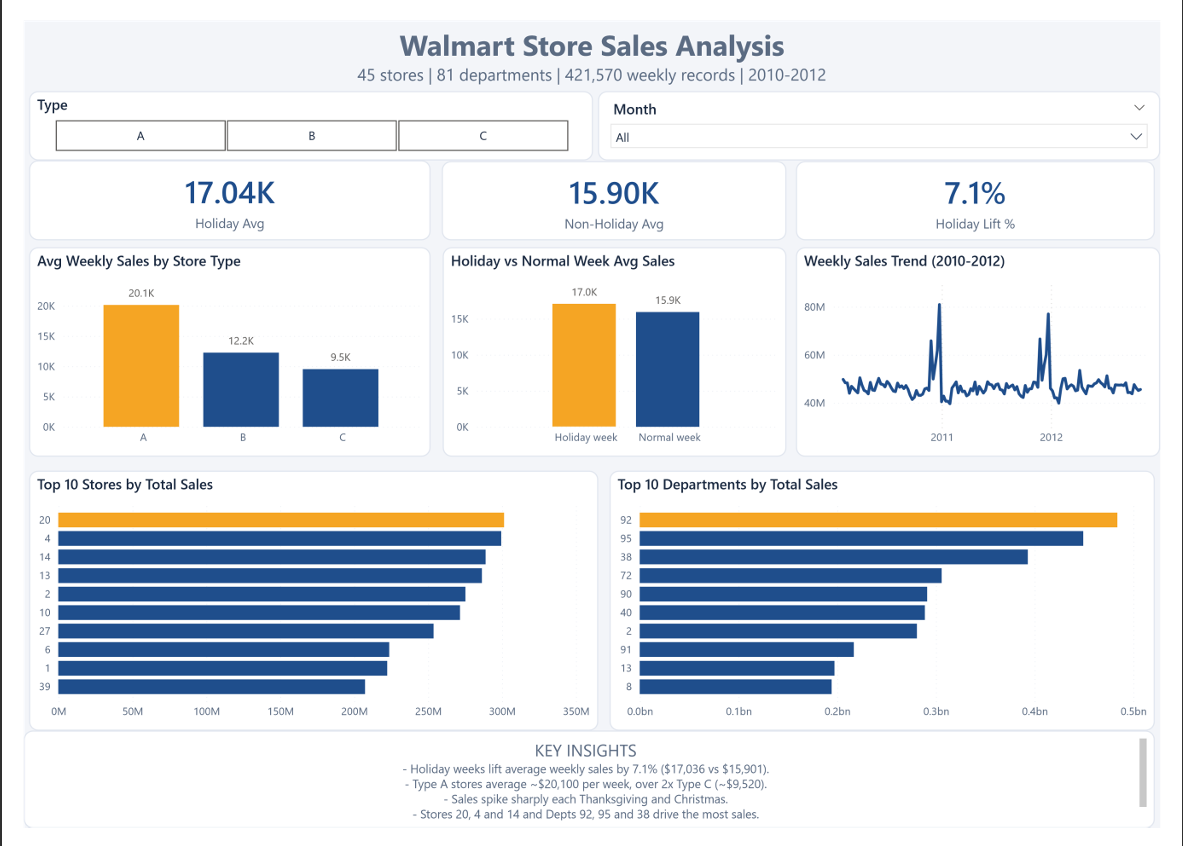

Layout of this report page (visuals, bound fields, positions):
{"tool":"powerbi","page":{"name":"Page 1","canvas":[1280,910],"ordinal":0},"visuals":[{"type":"card","fields":{"Values":["walmart_clean.Holiday Avg"]},"box":[6.2,157.7,452.1,89.9],"z":0},{"type":"card","fields":{"Values":["walmart_clean.Non-Holiday Avg"]},"box":[470.6,158.9,388.1,88.7],"z":1000},{"type":"card","fields":{"Values":["walmart_clean.Holiday Lift %"]},"box":[869.8,158.9,404.1,88.7],"z":2000},{"type":"clusteredColumnChart","title":"Avg Weekly Sales by Store Type","fields":{"Y":["walmart_clean.Avg Weekly Sales"],"Category":["walmart_clean.Type"]},"box":[6.2,256.2,452.1,235.3],"z":3000},{"type":"lineChart","title":"Weekly Sales Trend (2010-2012)","fields":{"Category":["walmart_clean.Date"],"Y":["walmart_clean.Total Sales"]},"box":[869.8,256.2,410.2,235.3],"z":4000},{"type":"clusteredBarChart","title":"Top 10 Stores by Total Sales","fields":{"Category":["walmart_clean.Store"],"Y":["walmart_clean.Total Sales"]},"box":[6.2,507.6,640.6,293.2],"z":5000},{"type":"clusteredBarChart","title":"Top 10 Departments by Total Sales","fields":{"Category":["walmart_clean.Dept"],"Y":["walmart_clean.Total Sales"]},"box":[660.3,507.6,613.5,293.2],"z":6000},{"type":"slicer","title":"Type","fields":{"Values":["walmart_clean.Type"]},"box":[6.2,80.1,634.5,77.6],"z":7000},{"type":"slicer","fields":{"Values":["walmart_clean.Month"]},"box":[646.8,80.1,633.2,77.6],"z":8000},{"type":"textbox","box":[0,0,1280,80.1],"z":9000},{"type":"clusteredColumnChart","title":"Holiday vs Normal Week Avg Sales","fields":{"Category":["walmart_clean.Week_Type"],"Y":["walmart_clean.Avg Weekly Sales"]},"box":[471.8,256.2,386.8,235.3],"z":10000},{"type":"textbox","box":[0,800.8,1273.8,110],"z":11000}]}

Visuals, with their boxes in screenshot pixels (x1, y1, x2, y2), scaled from the page's 1280x910 canvas onto the 1183x846 screenshot:
card - walmart_clean.Holiday Avg: bbox=[6, 147, 424, 230]
card - walmart_clean.Non-Holiday Avg: bbox=[435, 148, 794, 230]
card - walmart_clean.Holiday Lift %: bbox=[804, 148, 1177, 230]
"Avg Weekly Sales by Store Type" clusteredColumnChart: bbox=[6, 238, 424, 457]
"Weekly Sales Trend (2010-2012)" lineChart: bbox=[804, 238, 1182, 457]
"Top 10 Stores by Total Sales" clusteredBarChart: bbox=[6, 472, 598, 744]
"Top 10 Departments by Total Sales" clusteredBarChart: bbox=[610, 472, 1177, 744]
"Type" slicer: bbox=[6, 74, 592, 147]
slicer - walmart_clean.Month: bbox=[598, 74, 1182, 147]
textbox: bbox=[0, 0, 1182, 74]
"Holiday vs Normal Week Avg Sales" clusteredColumnChart: bbox=[436, 238, 794, 457]
textbox: bbox=[0, 744, 1177, 845]
